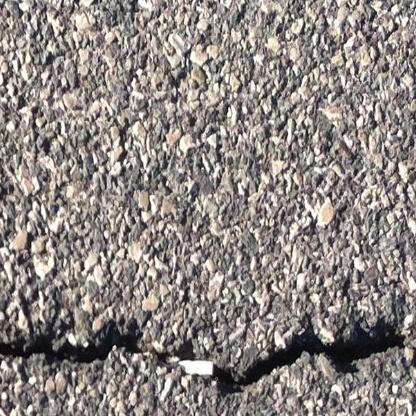Cracks: (211, 315, 416, 389), (0, 315, 149, 370)
